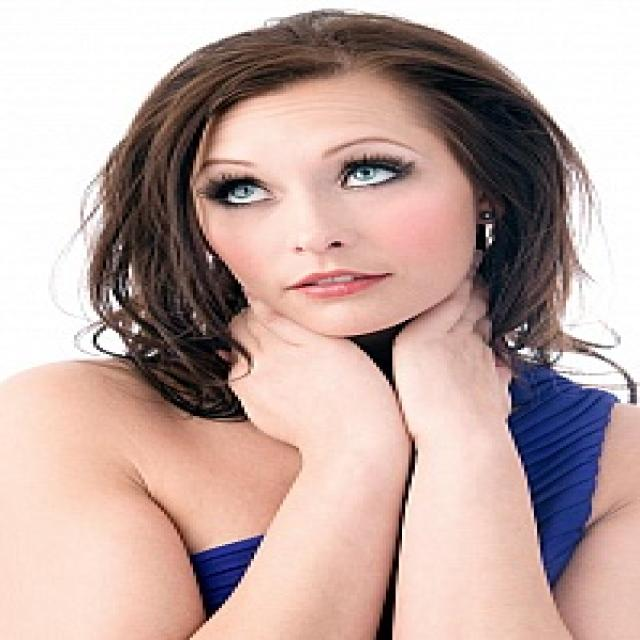Eyes: (193, 153, 427, 216)
